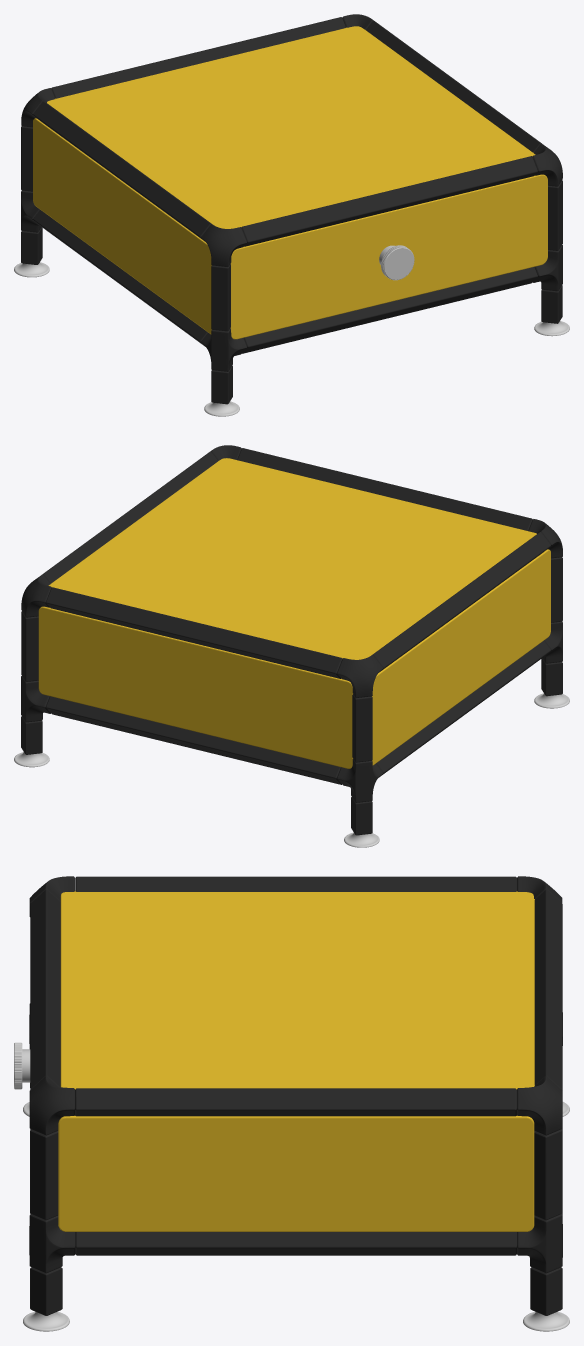
3 views of the same model, one above another, from view 1: azimuth 30°, elevation 25°; view 2: azimuth 150°, elevation 25°; view 3: azimuth 270°, elevation 25° (orthographic). The views are drawn at different scales.
Visible parts, largest first — view 1: 374x374x79; view 2: 374x374x79; view 3: 374x374x79.
Part boxes in pixels (<box>): 374x374x79: <box>14,14,569,416</box>; 374x374x79: <box>14,445,569,847</box>; 374x374x79: <box>14,876,569,1331</box>.
Bounding box in the file's own units: 0.4639 × 0.2183 × 0.4707.
